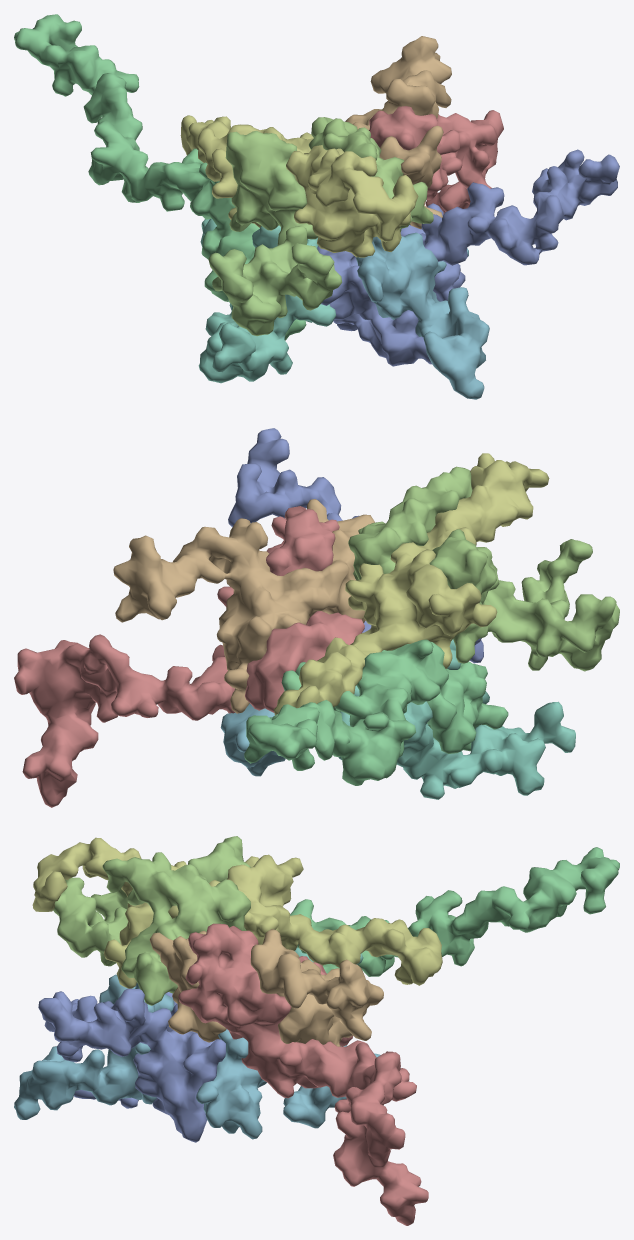
Rendered from histone.glb.
The picture shows the model from 3 angles, top to bottom: view 1: azimuth 30°, elevation 25°; view 2: azimuth 150°, elevation 25°; view 3: azimuth 270°, elevation 25°; orthographic projection. The views are drawn at different scales.
Parts seen in each view (by area): view 1: histone; view 2: histone; view 3: histone.
Part boxes in pixels (left/top/right/bottom): histone: left=14, top=14, right=619, bottom=399; histone: left=14, top=428, right=619, bottom=807; histone: left=14, top=836, right=619, bottom=1225.
Bounding box in the file's own units: 12.63 × 7.63 × 15.91.
